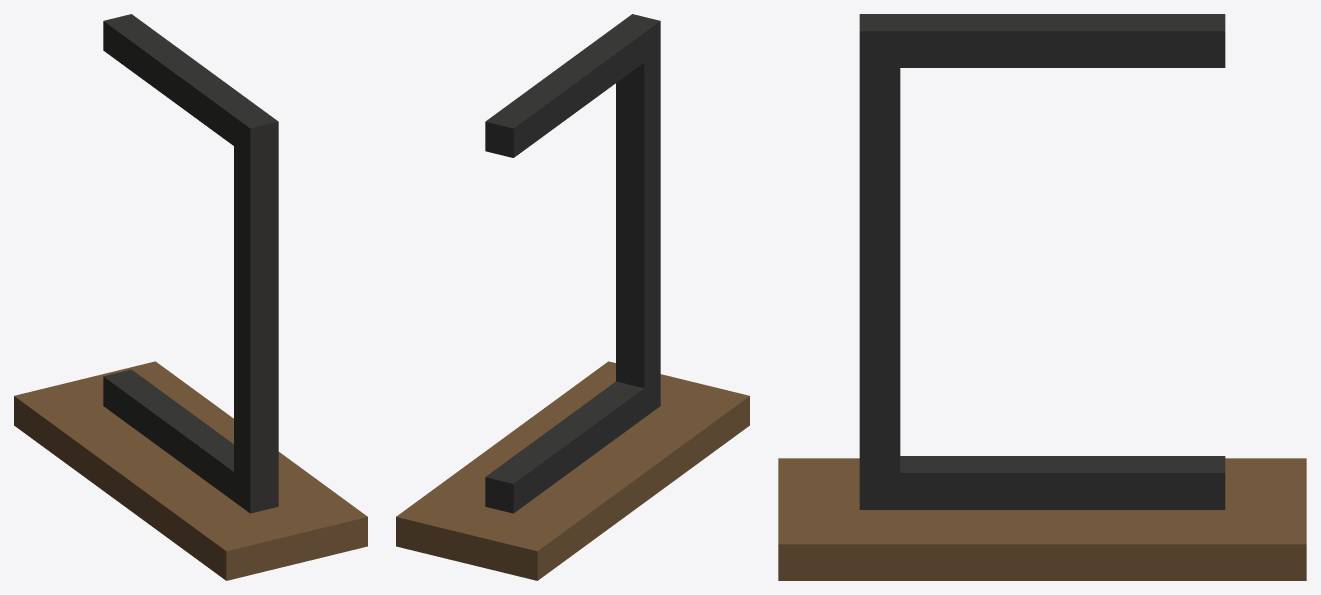
The model's file is arte1.gltf.
The picture shows the model from 3 angles, left to right: view 1: azimuth 30°, elevation 25°; view 2: azimuth 150°, elevation 25°; view 3: azimuth 270°, elevation 25°; orthographic projection. The views are drawn at different scales.
Visible parts, largest first — view 1: cube (×4); view 2: cube (×4); view 3: cube (×4).
Boxes of the visible parts, bbox=[...] form: cube (×4): bbox=[14, 14, 367, 580]; cube (×4): bbox=[396, 14, 749, 580]; cube (×4): bbox=[778, 14, 1306, 580].
Size of the model in its own units: 0.3125 by 0.875 by 0.8125.
